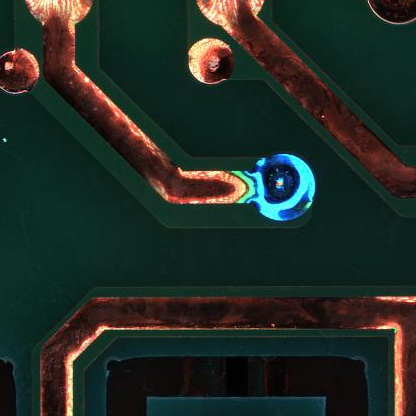spot: (250, 151, 315, 223)
